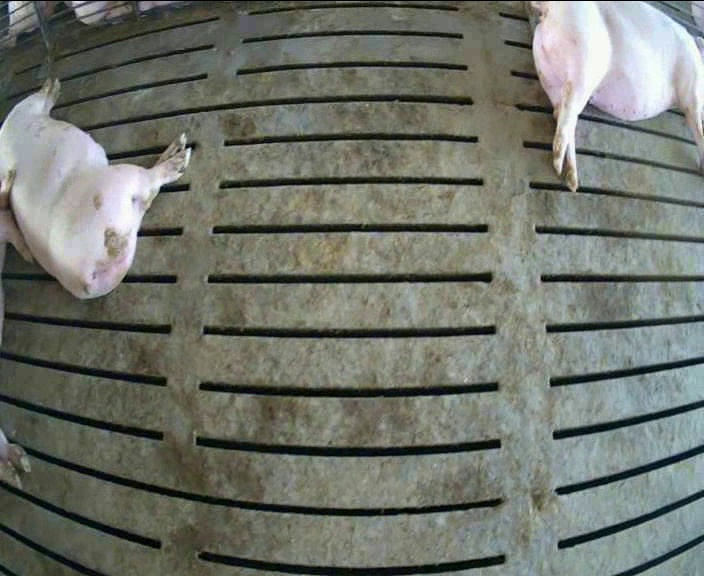pig: (0, 79, 190, 298), (529, 2, 703, 191)
